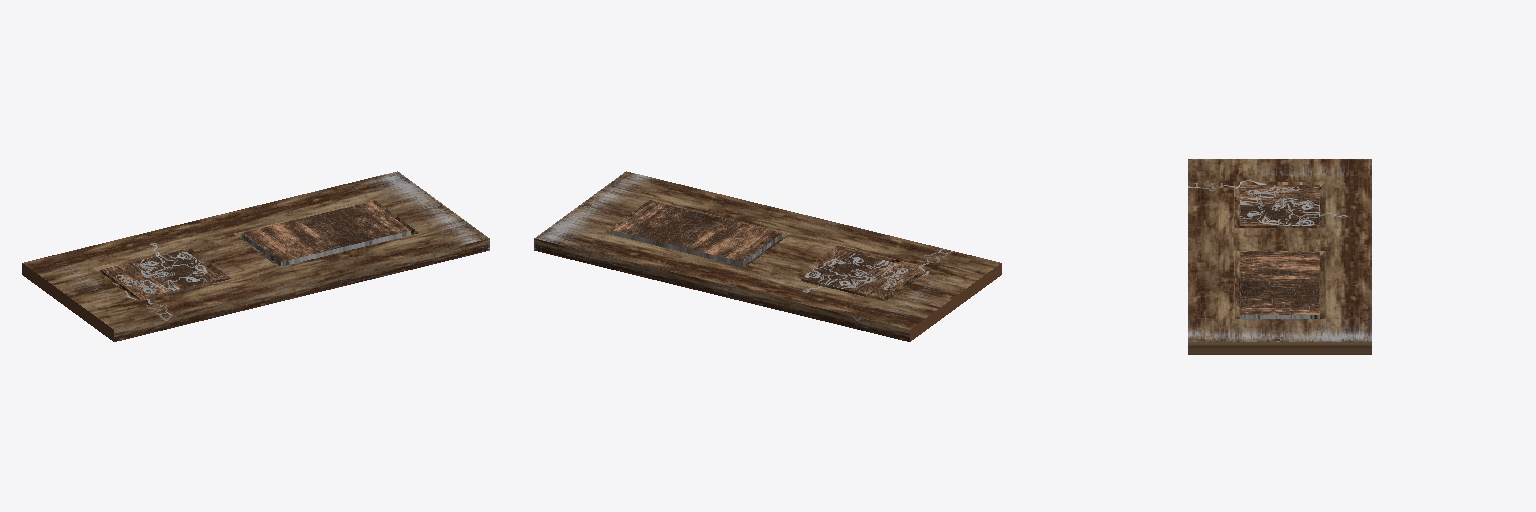
The picture shows the model from 3 angles: view 1: azimuth 30°, elevation 25°; view 2: azimuth 150°, elevation 25°; view 3: azimuth 270°, elevation 25°; orthographic projection.
Parts seen in each view (by area): view 1: Дверь_Untitled; view 2: Дверь_Untitled; view 3: Дверь_Untitled.
Boxes of the visible parts, x1=… form: Дверь_Untitled: x1=22, y1=171, x2=489, y2=341; Дверь_Untitled: x1=534, y1=171, x2=1001, y2=341; Дверь_Untitled: x1=1188, y1=159, x2=1371, y2=354.
Bounding box in the file's own units: 4.67 × 0.1676 × 1.98.
Materials: 1 (1 with a texture image).